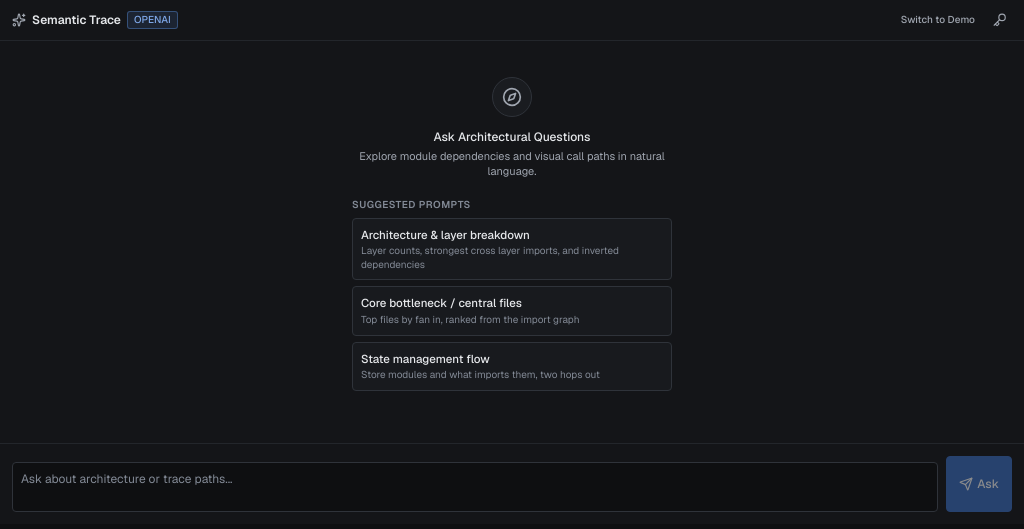
Test case: TracePanel › zero friction demo mode (0013) › prompt chip surface › sends the chip prompt text to the selected provider and expects no highlight in BYOK mode (covers: AC-11)
Expected: the text "OPENAI" is shown, [127,11,178,29]
Click the button "State management flow".
click(512, 366)  # box [352,342,672,391]
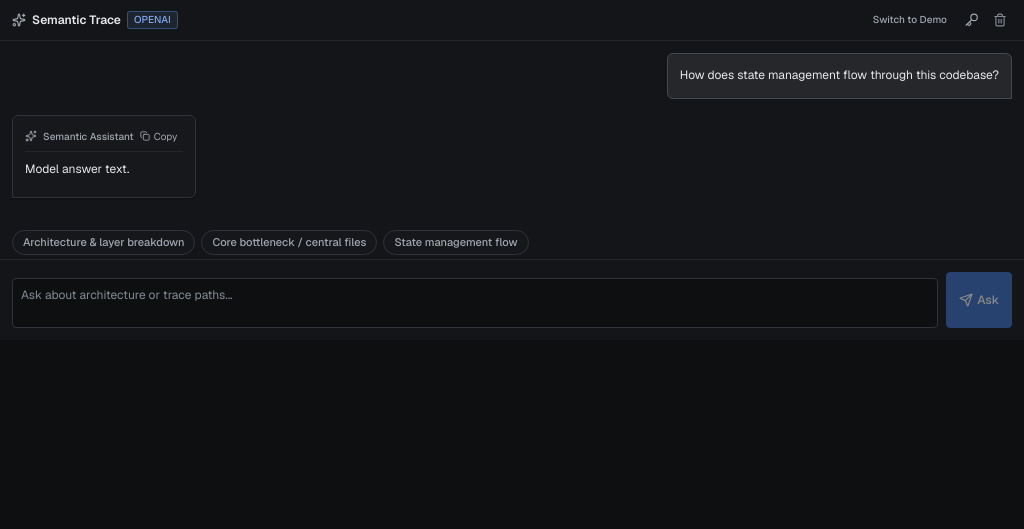
Expected: the text "Model answer text." is shown, [25,161,130,177]
Expected: the text "How does state management flow through this codebase?" is shown, [680,66,999,86]
